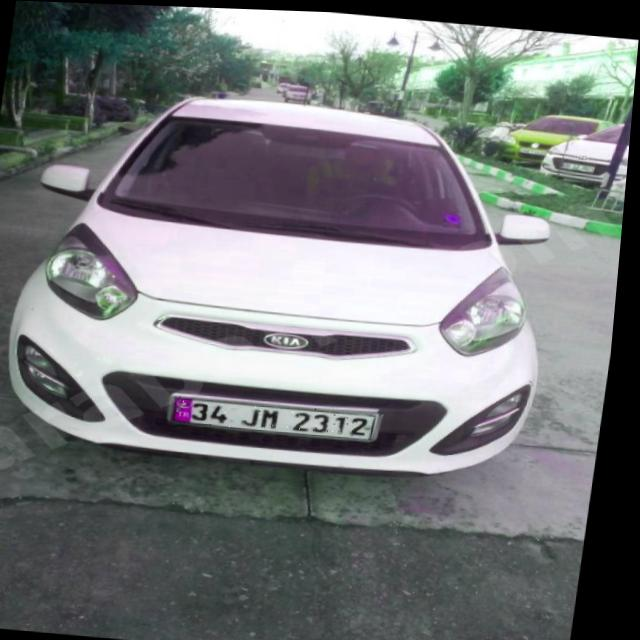license_plate: (177, 394, 385, 438)
